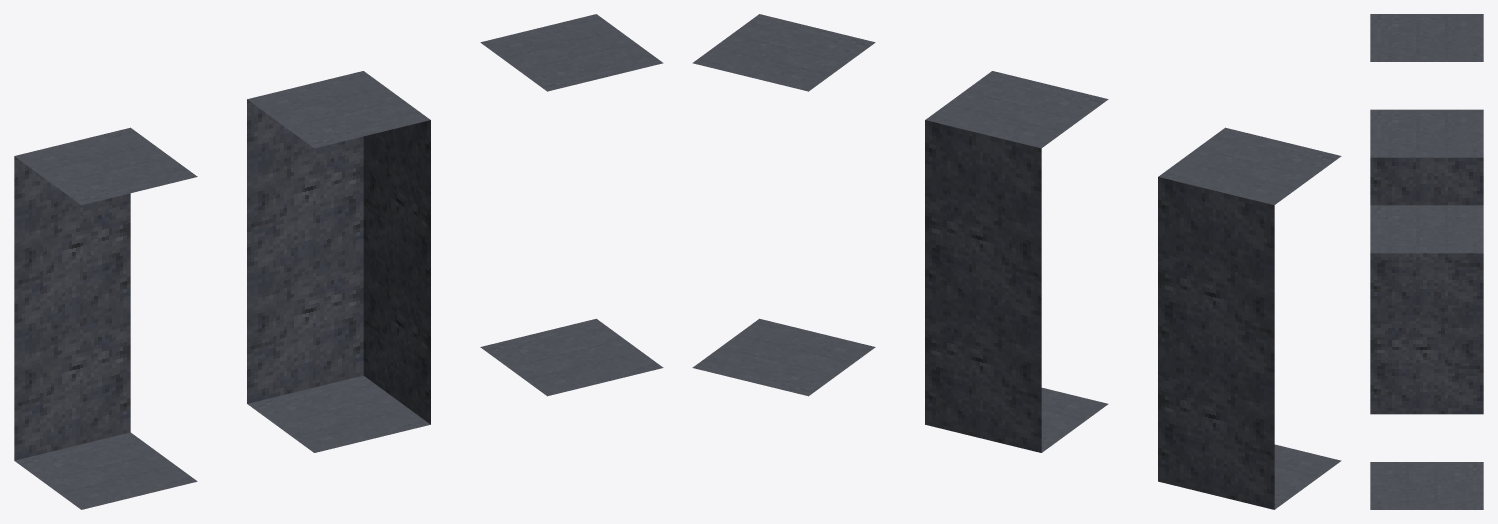
The model's file is tileset.glb.
3 renders of one model, left to right at view 1: azimuth 30°, elevation 25°; view 2: azimuth 150°, elevation 25°; view 3: azimuth 270°, elevation 25°, orthographic. The views are drawn at different scales.
Parts seen in each view (by area): view 1: corner-col, wall-col, floor-col; view 2: corner-col, wall-col, floor-col; view 3: corner-col, floor-col, wall-col.
Part boxes in pixels (<box>): corner-col: <box>247,71,430,452</box>; wall-col: <box>14,127,197,509</box>; floor-col: <box>480,14,663,396</box>; corner-col: <box>925,71,1108,452</box>; wall-col: <box>1158,127,1341,509</box>; floor-col: <box>692,14,875,396</box>; corner-col: <box>1370,109,1483,414</box>; floor-col: <box>1370,205,1483,509</box>; wall-col: <box>1370,14,1483,61</box>.
Bounding box in the file's own units: 5 × 2.5 × 1.
Materials: 1 (1 with a texture image).
